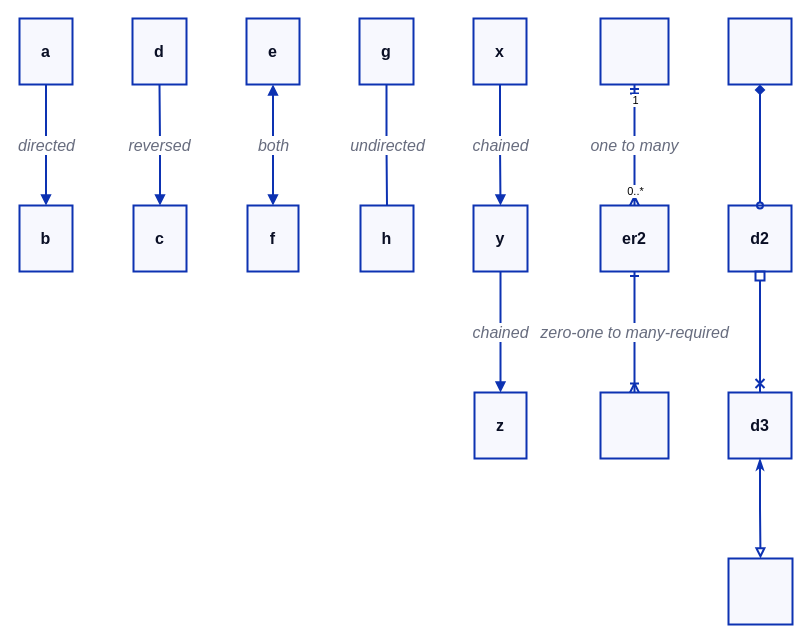
This 810x642 diagram has some shape labels left out. The shapes that lost their labels are listed below. From the top down, each one's centre as x and y in pixels, then its label:
At (x=634, y=51): "er1".
At (x=759, y=51): "d1".
At (x=634, y=425): "er3".
At (x=760, y=591): "d4".
